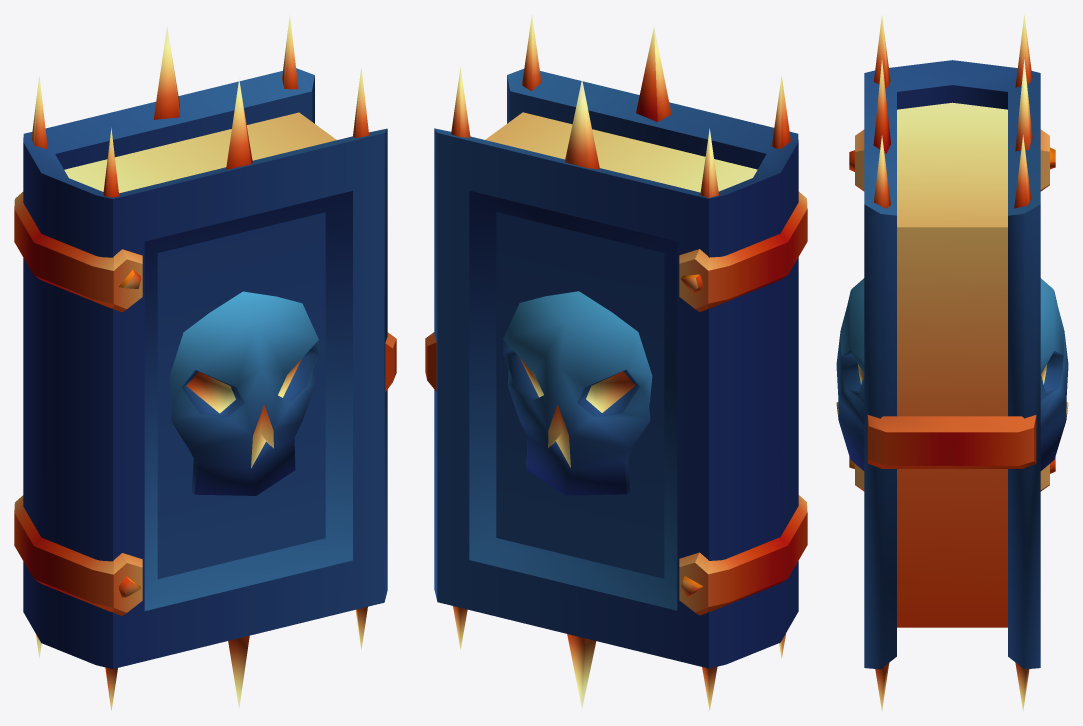
File: SpellBook1h_22.fbx
3 views of the same model, side by side, from view 1: azimuth 30°, elevation 25°; view 2: azimuth 150°, elevation 25°; view 3: azimuth 270°, elevation 25° (orthographic).
Parts seen in each view (by area): view 1: SpellBook1h_22; view 2: SpellBook1h_22; view 3: SpellBook1h_22.
Part boxes in pixels (left/top/right/bottom): SpellBook1h_22: left=14, top=15, right=396, bottom=711; SpellBook1h_22: left=425, top=15, right=807, bottom=711; SpellBook1h_22: left=836, top=15, right=1068, bottom=711.
Size of the model in its own units: 32.95 by 60.27 by 20.35.
